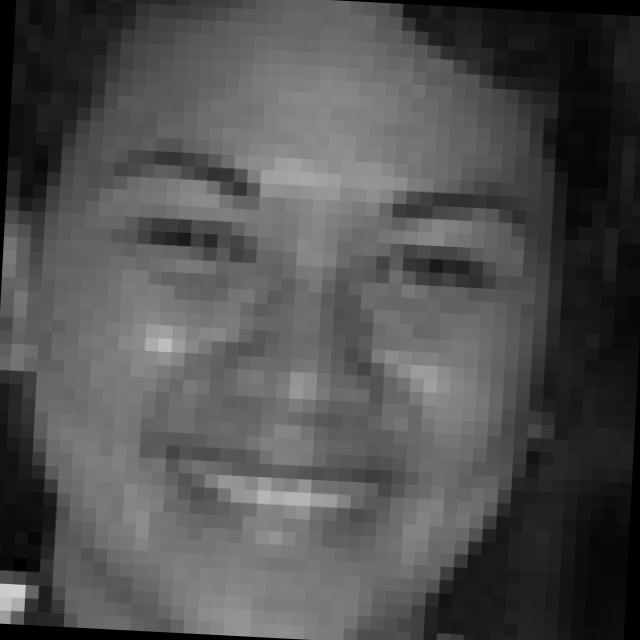happy: (62, 132, 542, 586)
